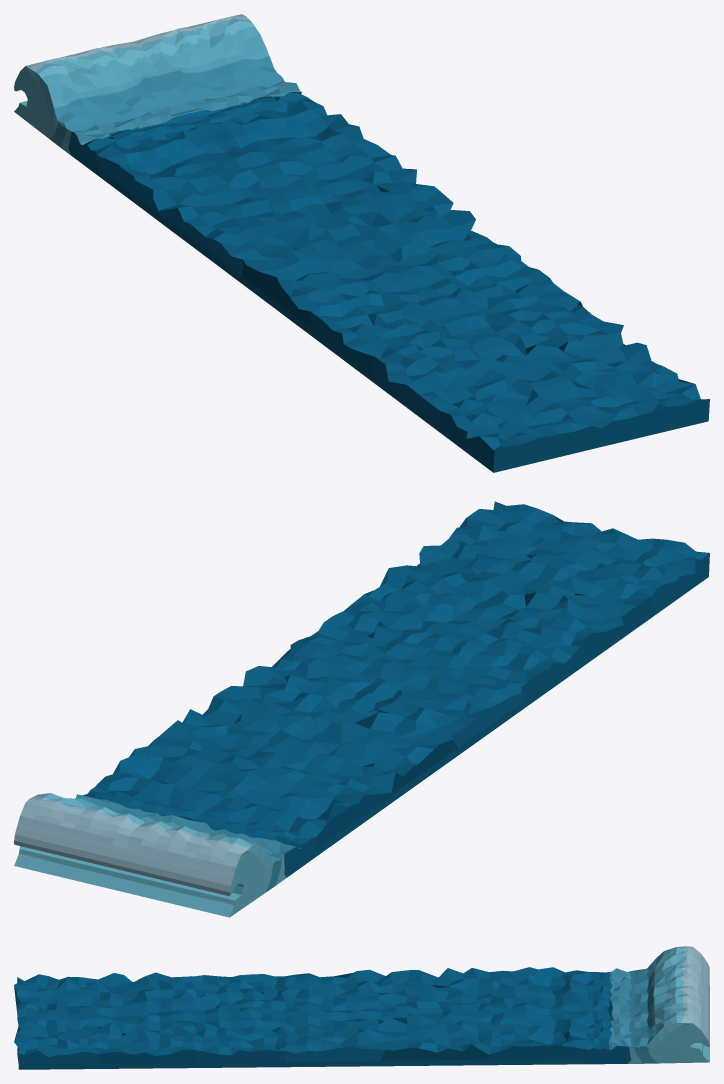
The model's file is Tsunami.fbx.
3 views of the same model, one above another, from view 1: azimuth 30°, elevation 25°; view 2: azimuth 150°, elevation 25°; view 3: azimuth 270°, elevation 25° (orthographic). The views are drawn at different scales.
Parts seen in each view (by area): view 1: Plane; view 2: Plane; view 3: Plane.
Part boxes in pixels (x1=…): Plane: x1=14, y1=14, x2=709, y2=472; Plane: x1=14, y1=501, x2=709, y2=917; Plane: x1=14, y1=946, x2=709, y2=1069.
Bounding box in the file's own units: 3388 × 969 × 12039.
Materials: 1 (1 with a texture image).
